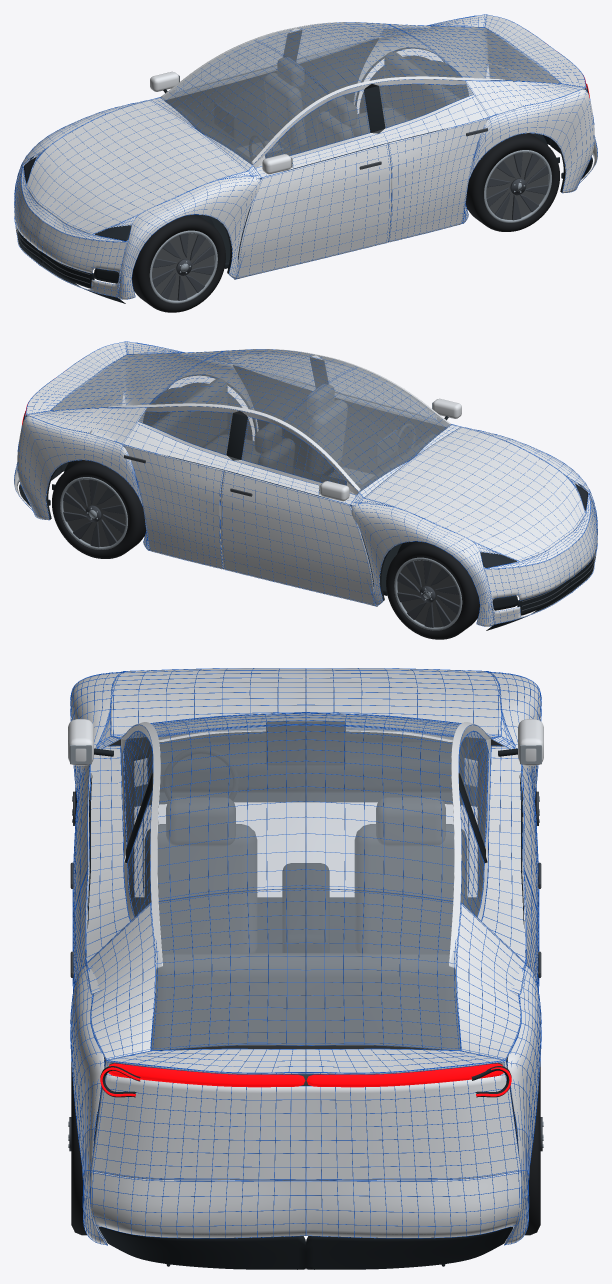
File: tesla_surface_model.glb
3 views of the same model, one above another, from view 1: azimuth 30°, elevation 25°; view 2: azimuth 150°, elevation 25°; view 3: azimuth 270°, elevation 25° (orthographic). The views are drawn at different scales.
Visible parts, largest first — view 1: HOOD, DOOR_FL, GLASS_WINDSHIELD, FENDER_REAR, GLASS_ROOF, DOOR_RL, FENDER_FRONT, GLASS_REAR, BUMPER_FRONT, INNER_DOOR_FR, GLASS_FRONT_LEFT, TIRE_RL (+50 smaller); view 2: HOOD, DOOR_FR, GLASS_WINDSHIELD, FENDER_REAR, GLASS_ROOF, DOOR_RR, FENDER_FRONT, GLASS_REAR, BUMPER_FRONT, INNER_DOOR_FL, GLASS_FRONT_RIGHT, TIRE_RR (+50 smaller); view 3: GLASS_ROOF, GLASS_REAR, REAR_HATCH, REAR_BACKREST, BUMPER_REAR, HOOD, PILLAR_C_QUARTER, BELTLINE_LEDGE, DASHBOARD, FRONT_SEAT_BACK, FRONT_SEAT_BACK.001, DIFFUSER_REAR (+50 smaller).
Boxes of the visible parts, <box> form: HOOD: <box>26,100,247,233</box>; DOOR_FL: <box>237,143,391,278</box>; GLASS_WINDSHIELD: <box>161,40,327,164</box>; FENDER_REAR: <box>353,26,594,223</box>; GLASS_ROOF: <box>255,23,461,93</box>; DOOR_RL: <box>388,118,488,242</box>; FENDER_FRONT: <box>14,100,260,299</box>; GLASS_REAR: <box>391,25,560,83</box>; BUMPER_FRONT: <box>14,168,127,297</box>; INNER_DOOR_FR: <box>165,65,277,147</box>; GLASS_FRONT_LEFT: <box>265,90,369,158</box>; TIRE_RL: <box>466,133,559,231</box>; HOOD: <box>364,427,585,560</box>; DOOR_FR: <box>220,470,374,605</box>; GLASS_WINDSHIELD: <box>284,367,450,491</box>; FENDER_REAR: <box>17,353,258,550</box>; GLASS_ROOF: <box>150,350,356,420</box>; DOOR_RR: <box>123,445,223,569</box>; FENDER_FRONT: <box>351,427,597,626</box>; GLASS_REAR: <box>51,352,220,410</box>; BUMPER_FRONT: <box>484,495,597,624</box>; INNER_DOOR_FL: <box>334,392,446,474</box>; GLASS_FRONT_RIGHT: <box>242,417,346,484</box>; TIRE_RR: <box>52,460,145,558</box>; GLASS_ROOF: <box>157,724,454,900</box>; GLASS_REAR: <box>151,888,460,1050</box>; REAR_HATCH: <box>91,1060,520,1180</box>; REAR_BACKREST: <box>151,953,460,1050</box>; BUMPER_REAR: <box>90,1171,521,1244</box>; HOOD: <box>111,668,500,735</box>; PILLAR_C_QUARTER: <box>87,903,524,1059</box>; BELTLINE_LEDGE: <box>86,746,525,994</box>; DASHBOARD: <box>147,742,464,792</box>; FRONT_SEAT_BACK: <box>144,824,257,953</box>; FRONT_SEAT_BACK.001: <box>354,824,467,953</box>; DIFFUSER_REAR: <box>99,1227,512,1269</box>.
Size of the model in its own units: 4.81 by 1.53 by 1.9.
